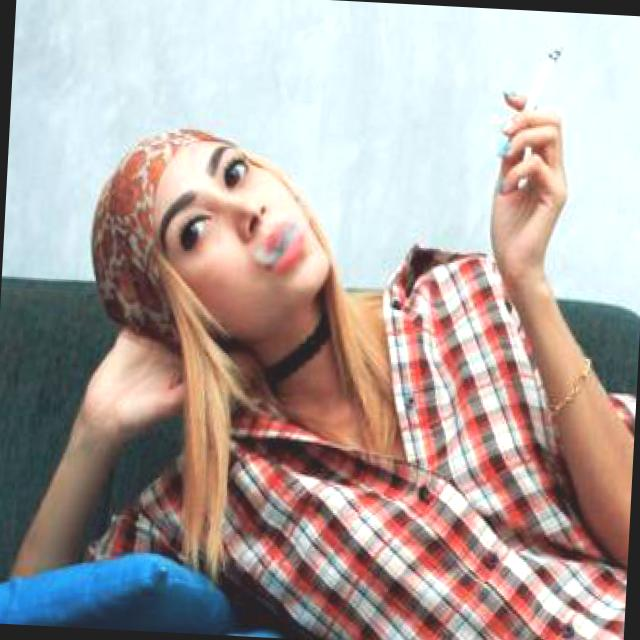cigarette: (491, 41, 564, 170)
